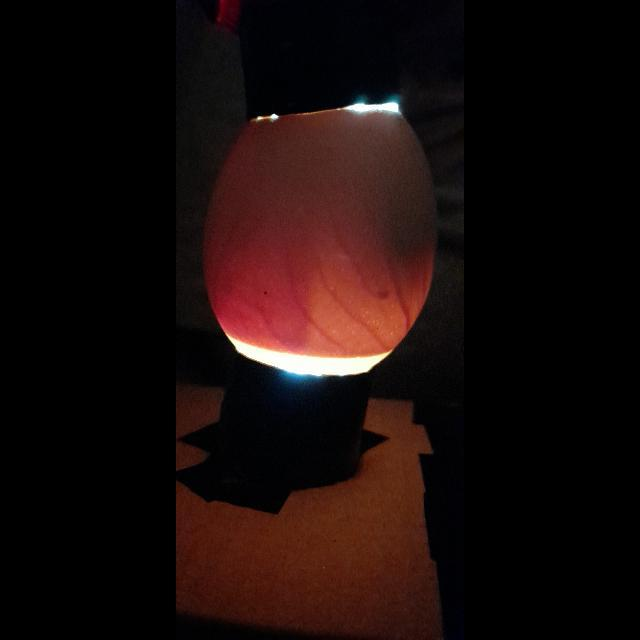Fertile: (206, 107, 434, 377)
